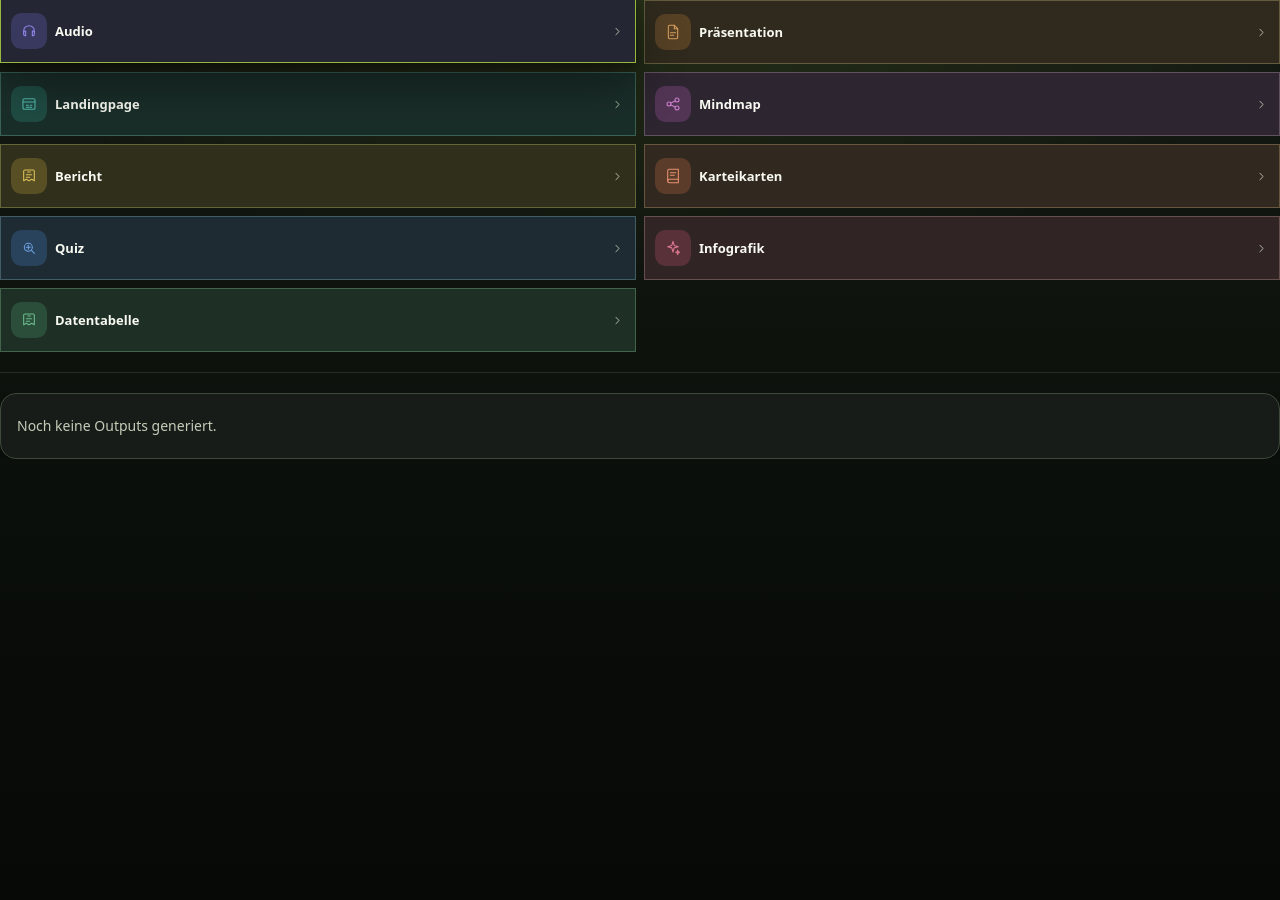
Test: StudioPanel › öffnet ein Anpassen-Fenster und sendet Detailgrad, Stil und Anweisung mit
The width and height of the screenshot is (1280, 900).
Click the button "Infografik": (673, 248) [644, 216, 1279, 280]
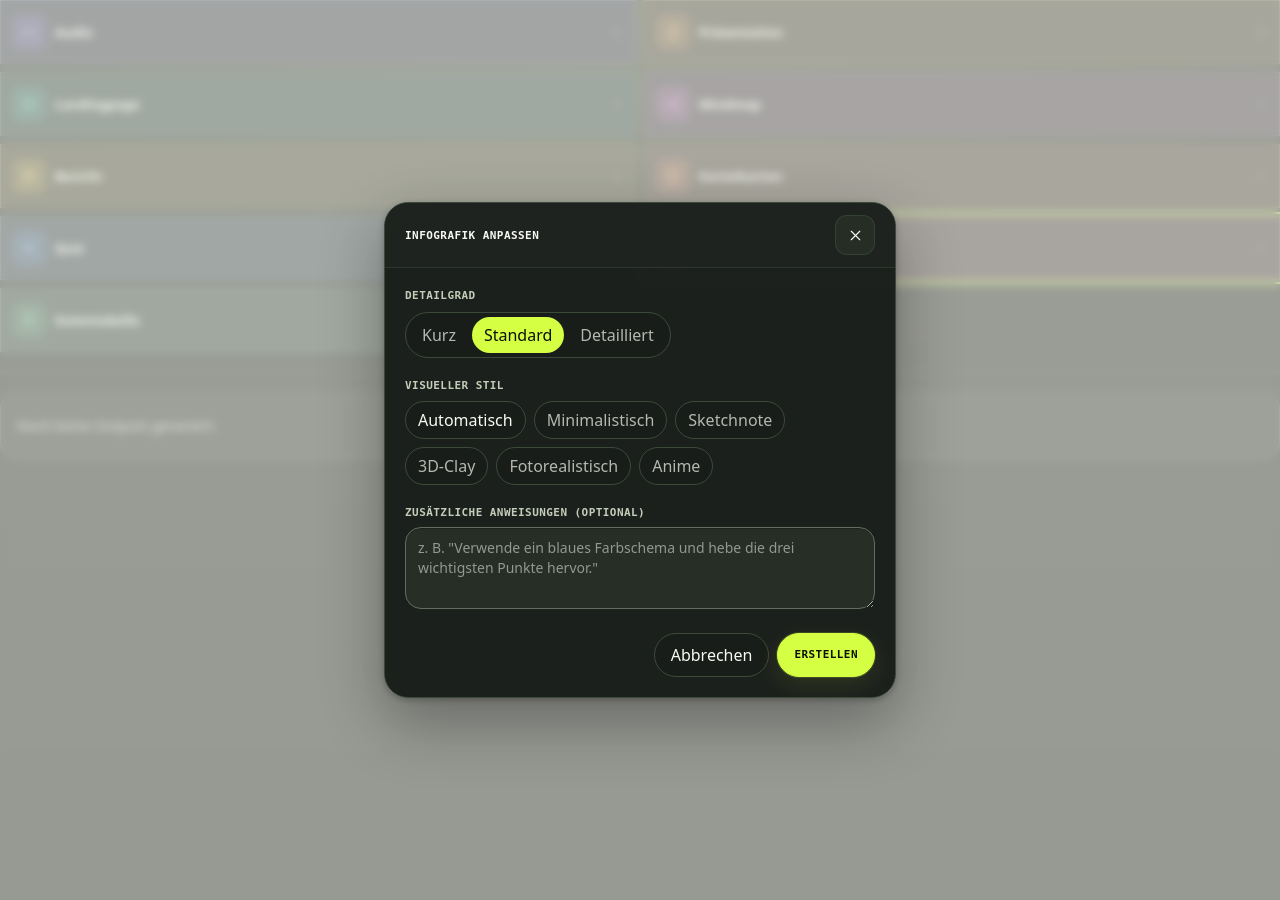
Check: the text "Infografik anpassen" is shown, box [405, 228, 539, 243]
Click the button "Detailliert": (617, 335) [568, 317, 666, 353]
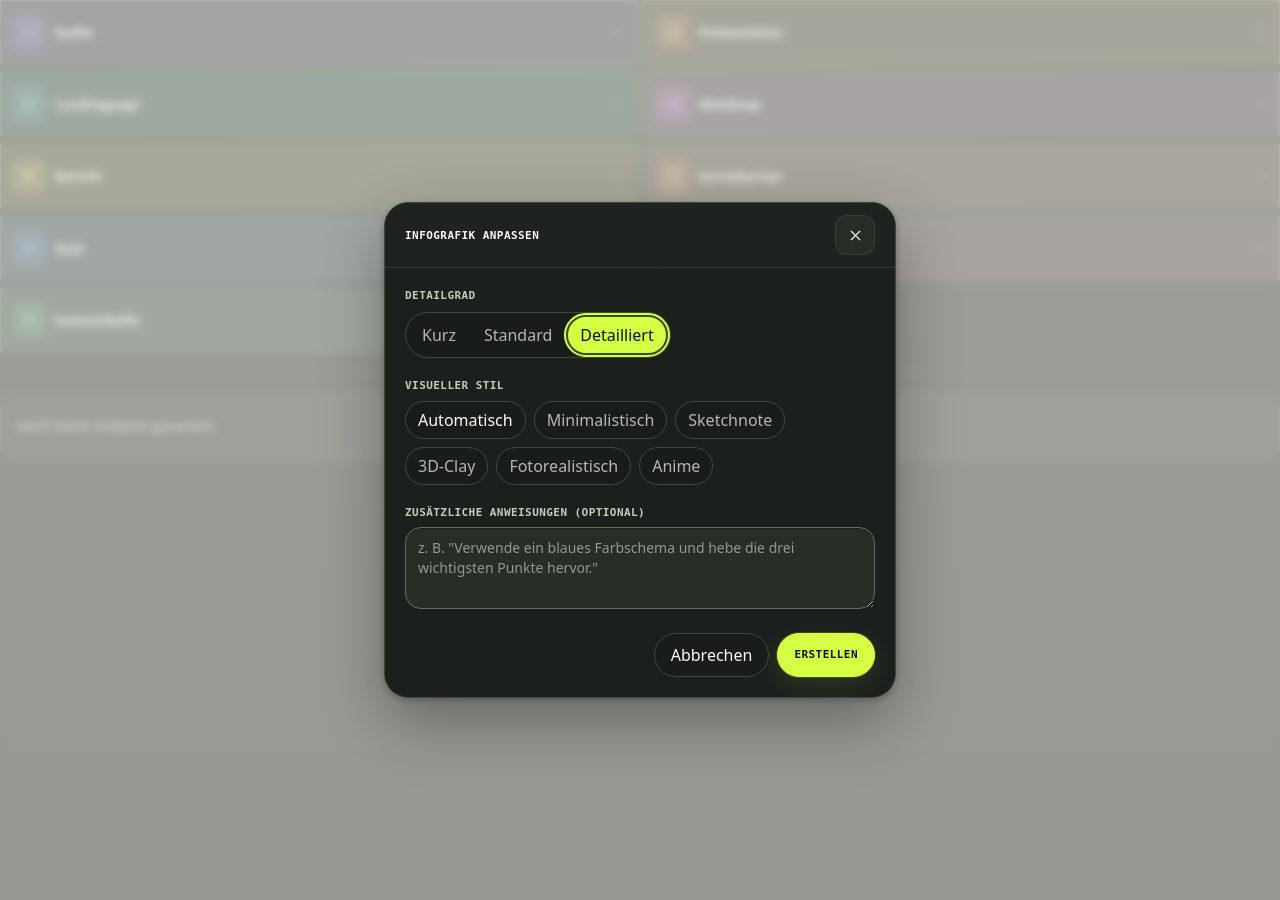
Click the button "Sketchnote": (730, 420) [675, 401, 785, 439]
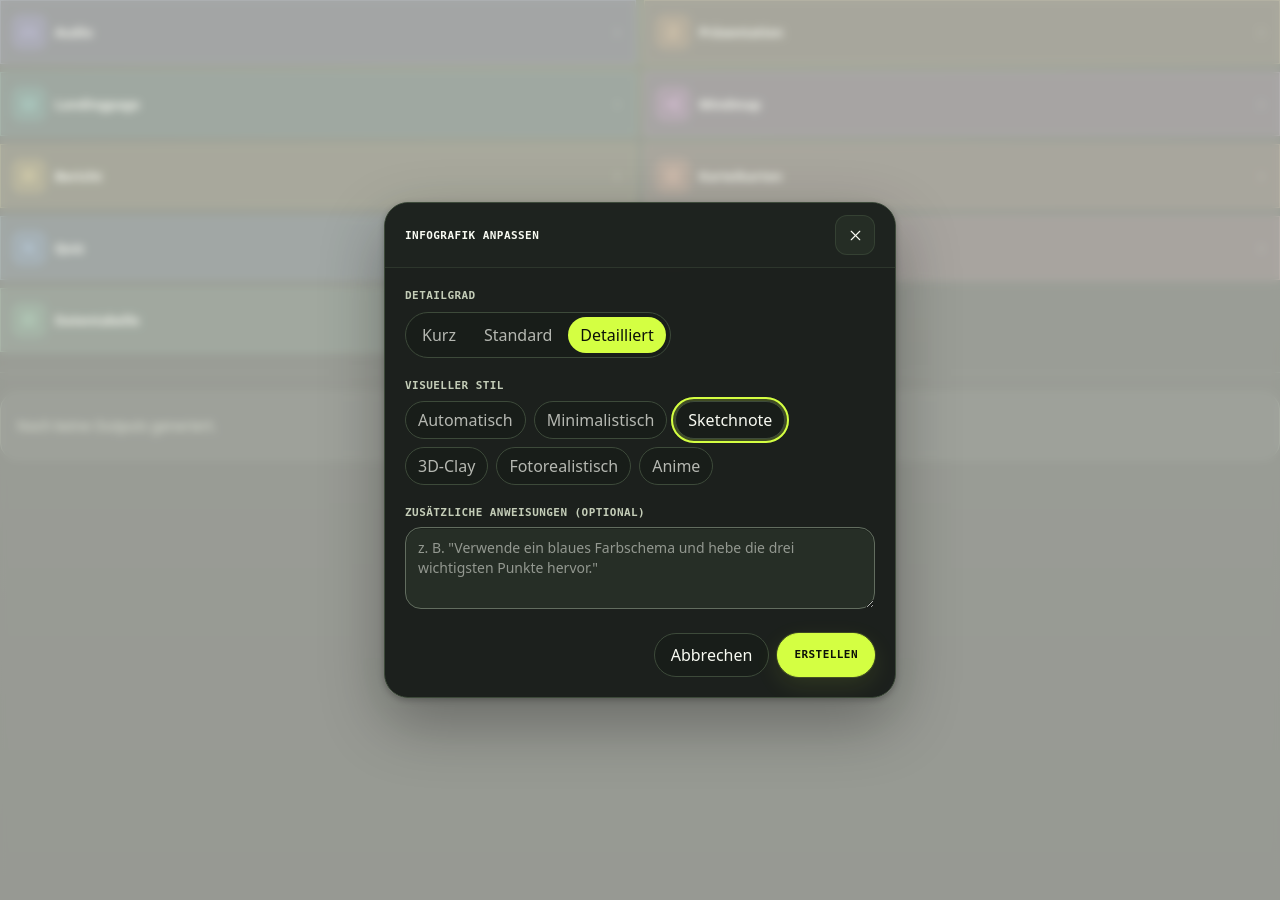
In the text box with placeholder "blaues Farbschema": (640, 568) [405, 527, 875, 609], type "Fokus auf Kapitel 2"
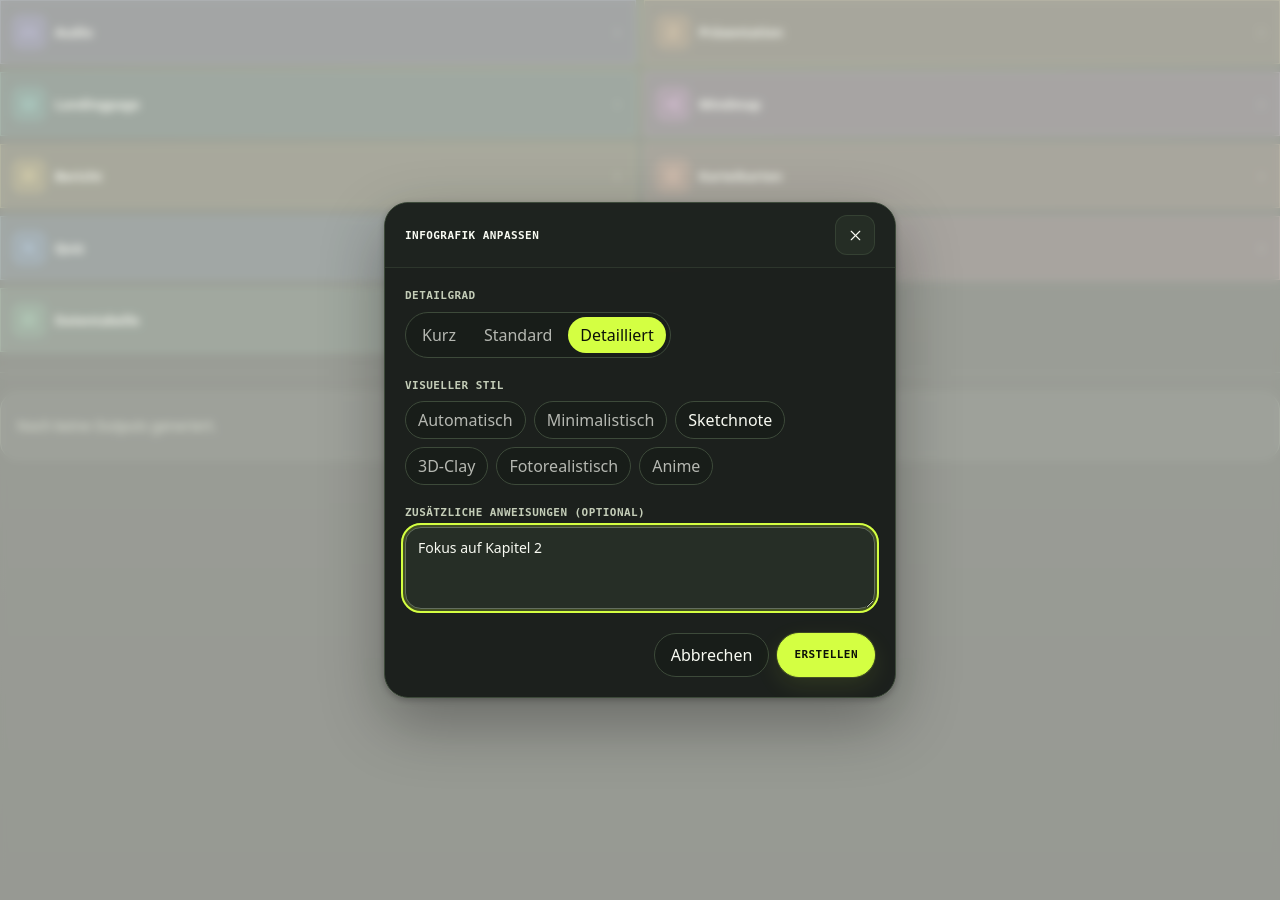
Click the button "Erstellen": (826, 655) [777, 633, 875, 677]
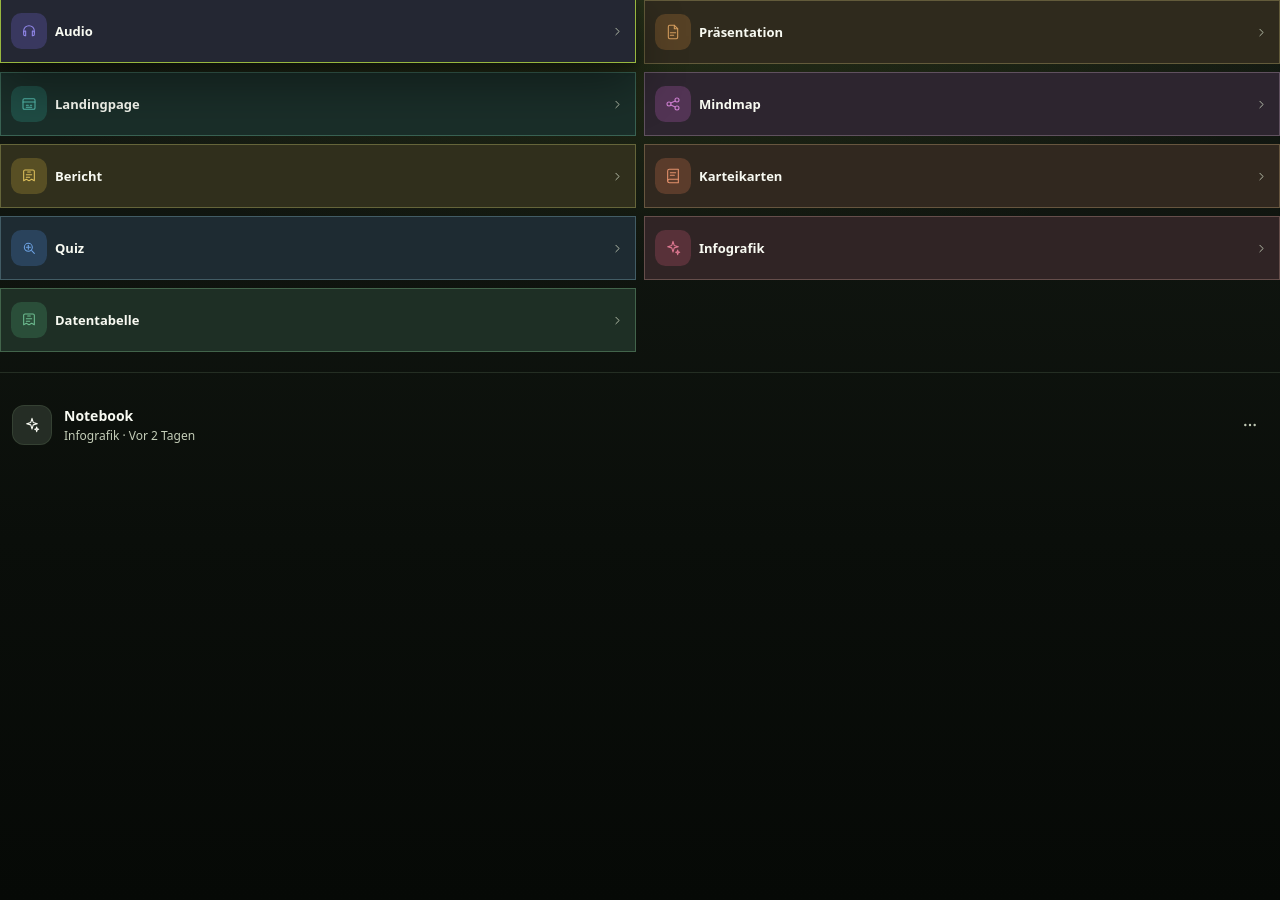
Check: the text "Infografik anpassen" is gone
